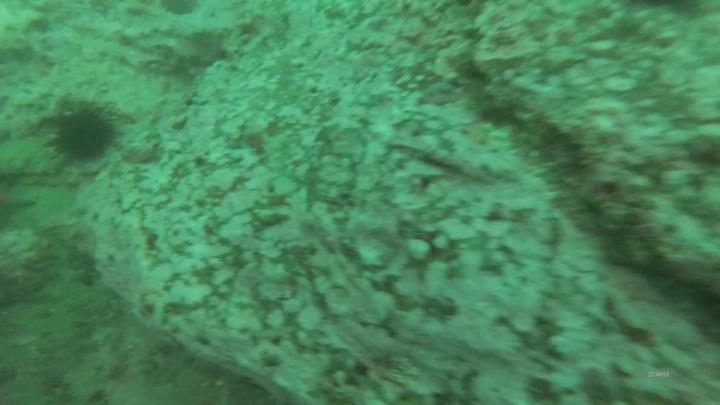echinus: (37, 102, 126, 176)
